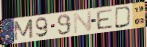9: (56, 14, 72, 37), (35, 16, 49, 38)
D: (114, 6, 133, 29)
E: (95, 8, 114, 30)
M: (13, 19, 35, 42)
N: (73, 10, 93, 35)
